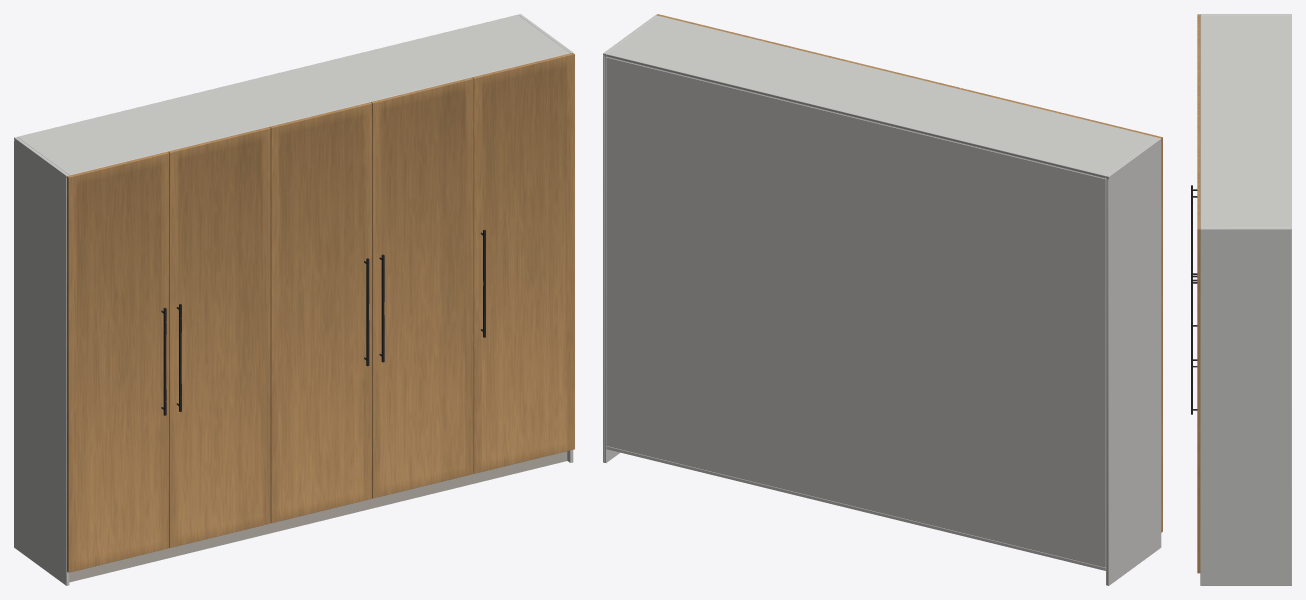
The model's file is wardrobe_4.glb.
3 renders of one model, left to right at view 1: azimuth 30°, elevation 25°; view 2: azimuth 150°, elevation 25°; view 3: azimuth 270°, elevation 25°, orthographic. The views are drawn at different scales.
Visible parts, largest first — view 1: wardrobe_4_carcass, wardrobe_4_door_1, wardrobe_4_door_4, wardrobe_4_door_3, wardrobe_4_door_2, wardrobe_4_door_5, wardrobe_4_plinth; view 2: wardrobe_4_carcass, wardrobe_4_door_1; view 3: wardrobe_4_carcass, wardrobe_4_door_5, wardrobe_4_handle_5, wardrobe_4_handle_2, wardrobe_4_door_4, wardrobe_4_door_1, wardrobe_4_door_2, wardrobe_4_door_3.
Boxes of the visible parts, <box> form: wardrobe_4_carcass: <box>14,14,573,585</box>; wardrobe_4_door_1: <box>67,152,169,572</box>; wardrobe_4_door_4: <box>371,77,473,498</box>; wardrobe_4_door_3: <box>269,102,371,523</box>; wardrobe_4_door_2: <box>168,127,270,547</box>; wardrobe_4_door_5: <box>472,53,574,473</box>; wardrobe_4_plinth: <box>69,451,567,582</box>; wardrobe_4_carcass: <box>603,15,1161,585</box>; wardrobe_4_door_1: <box>1061,113,1162,532</box>; wardrobe_4_carcass: <box>1200,14,1291,585</box>; wardrobe_4_door_5: <box>1197,186,1200,573</box>; wardrobe_4_handle_5: <box>1191,321,1197,414</box>; wardrobe_4_handle_2: <box>1191,191,1197,281</box>; wardrobe_4_door_4: <box>1197,143,1200,186</box>; wardrobe_4_door_1: <box>1197,14,1200,57</box>; wardrobe_4_door_2: <box>1197,57,1200,100</box>; wardrobe_4_door_3: <box>1197,100,1200,143</box>.
Bounding box in the file's own units: 2.97 × 2.3 × 0.589.
Materials: 4 (1 with a texture image).
